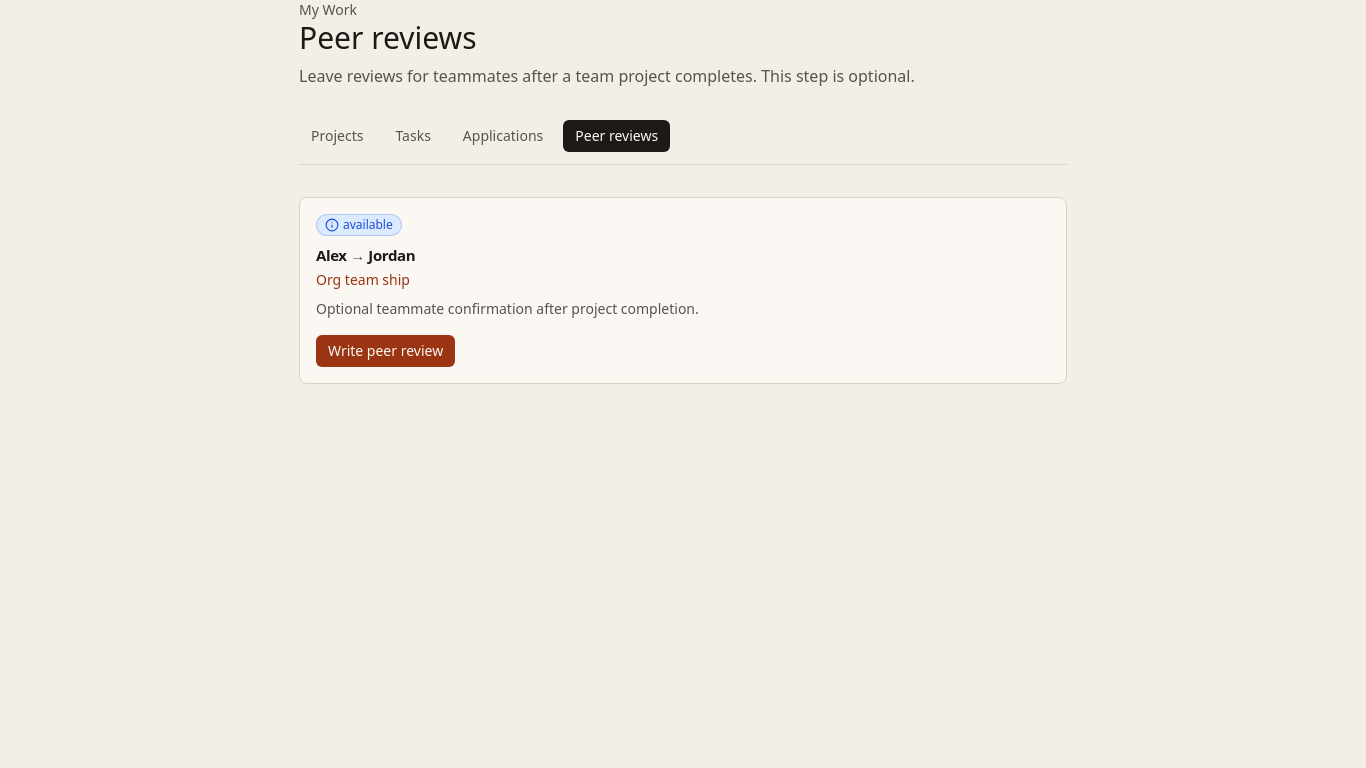
Scenario: MyWorkPage › validates comment then submits a review
Click the button "Write peer review" at (386, 350), box [316,334,455,366]
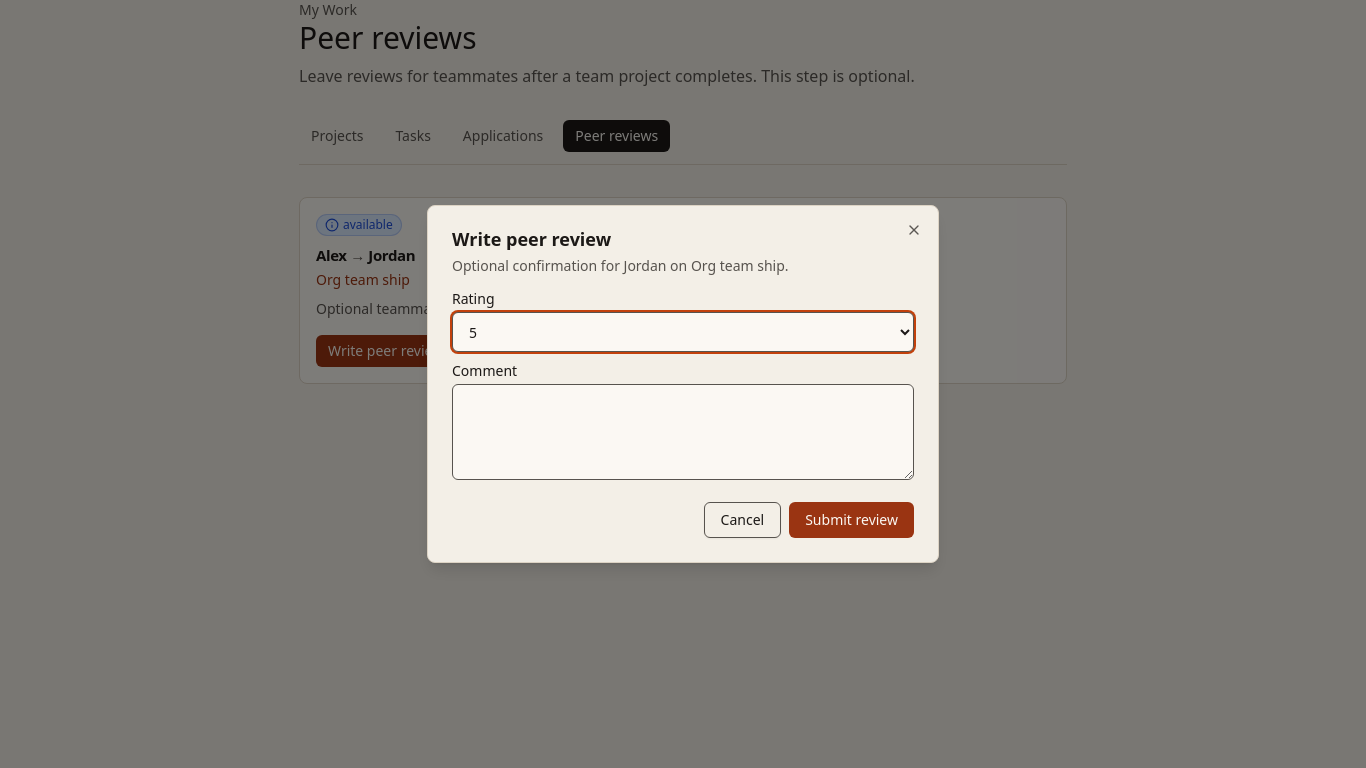
Click the button "Submit review" at (852, 520), box [789,502,914,538]
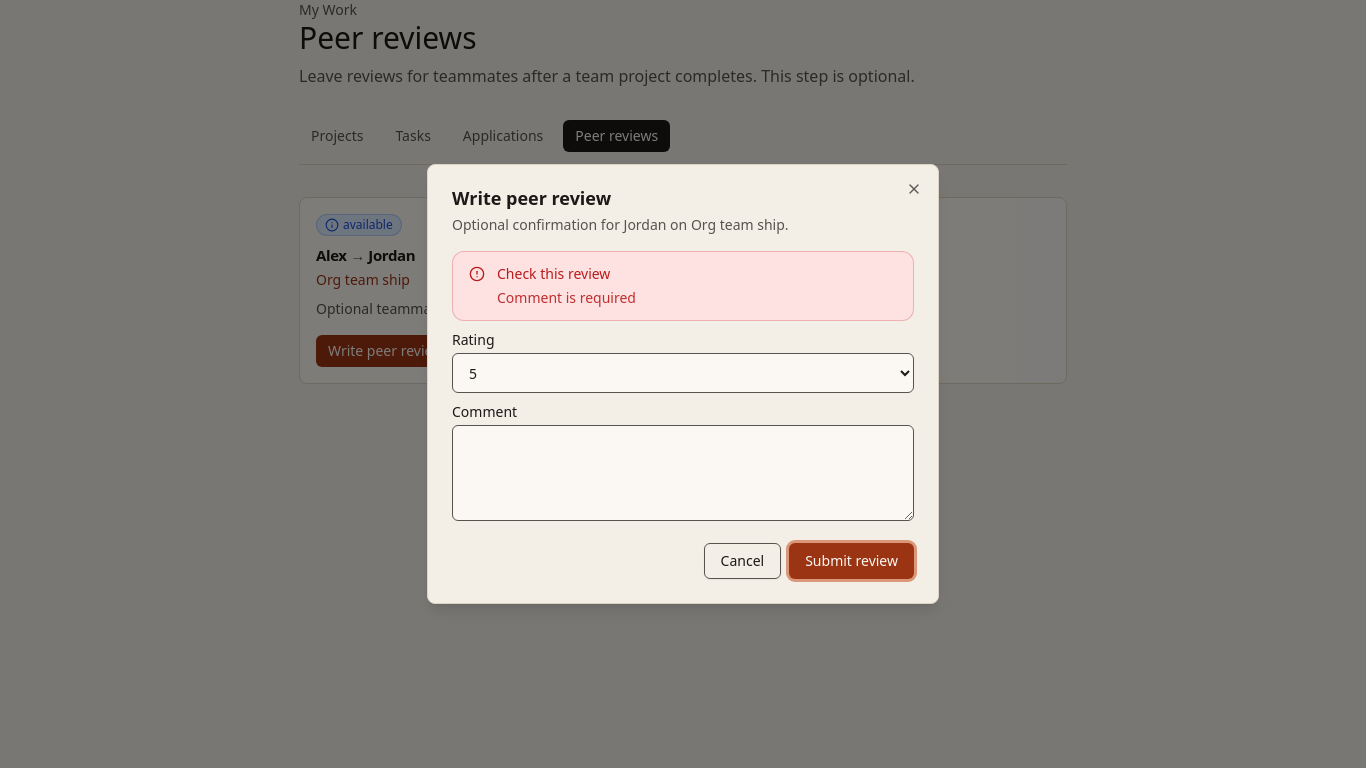
Now the text "Comment is required" is shown, box [497,288,636,308]
Type "Clear notes" into the text box labelled "Comment" at (683, 473), box [452,425,914,521]
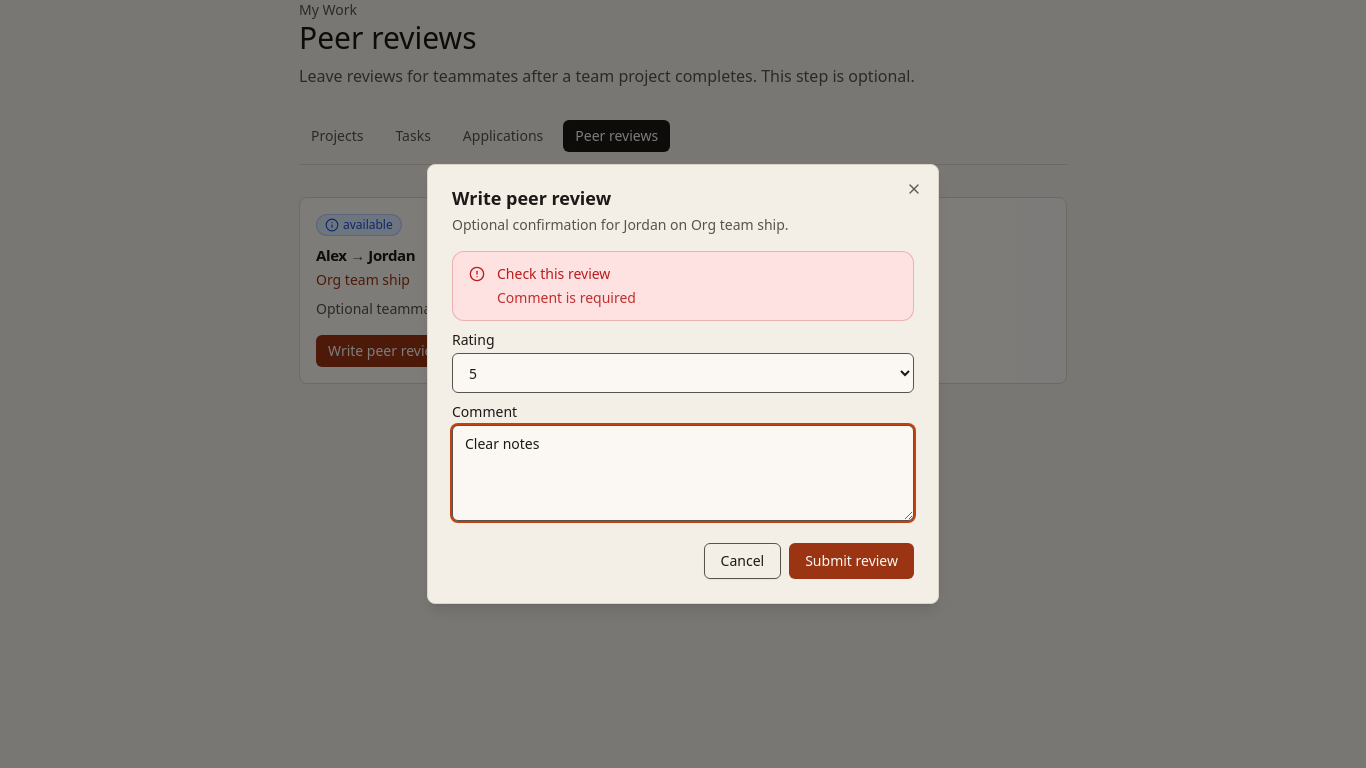
Click the button "Submit review" at (852, 561), box [789,543,914,579]
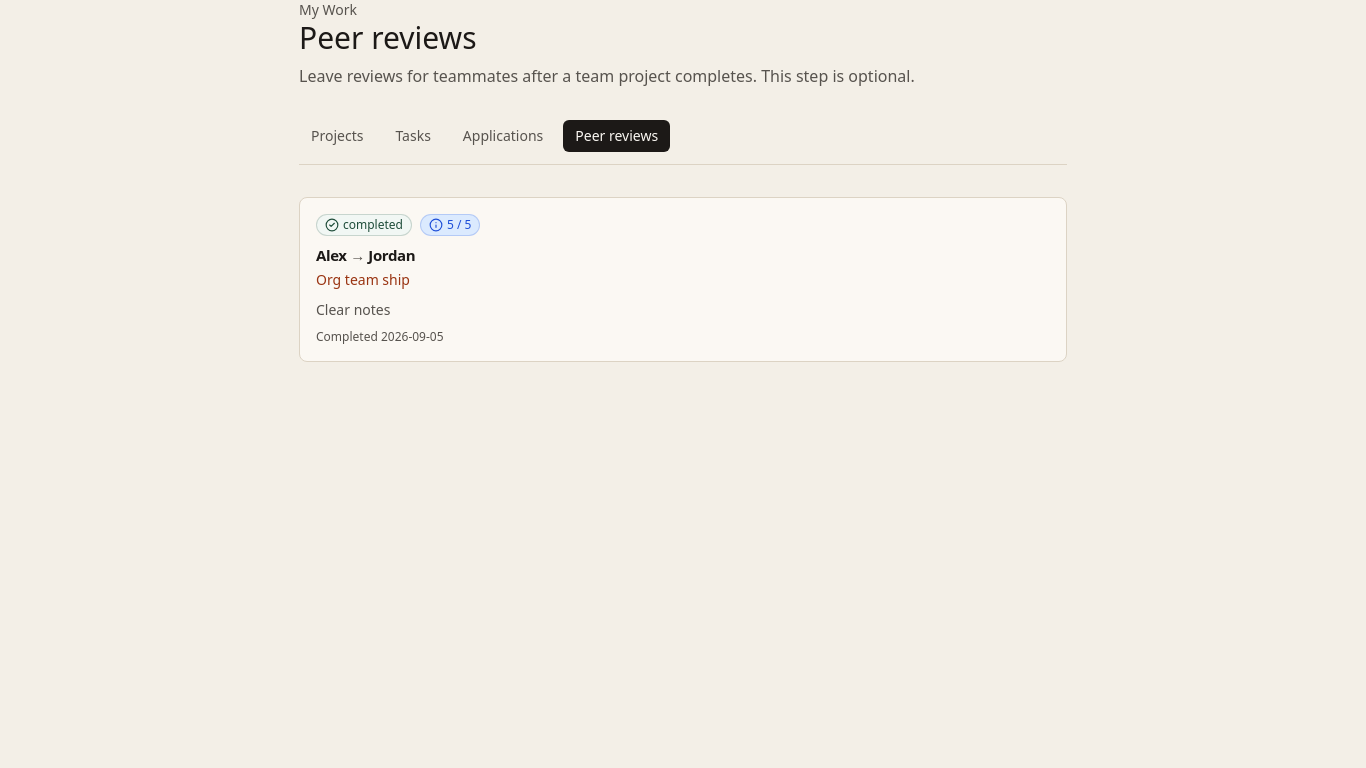
Now the text "Clear notes" is shown, box [316,300,390,318]
Now the text "completed" is shown, box [343,217,403,233]
